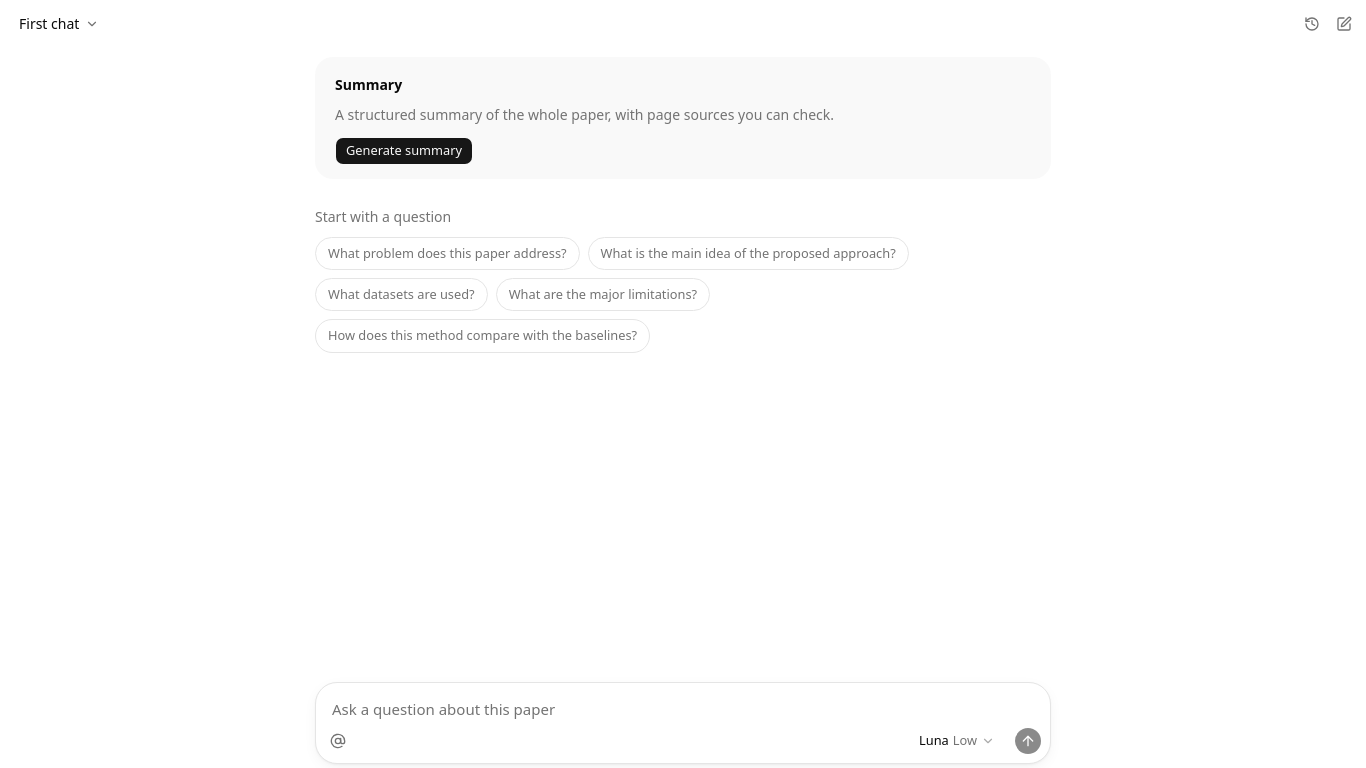
Scenario: Given the history, When a row is chosen, Then its chat opens and the popover closes
What coordinates should you click on to do the following:
click the button named "Chat history"
I would click on:
 (1312, 24)
Its box is [1298,10,1326,38].
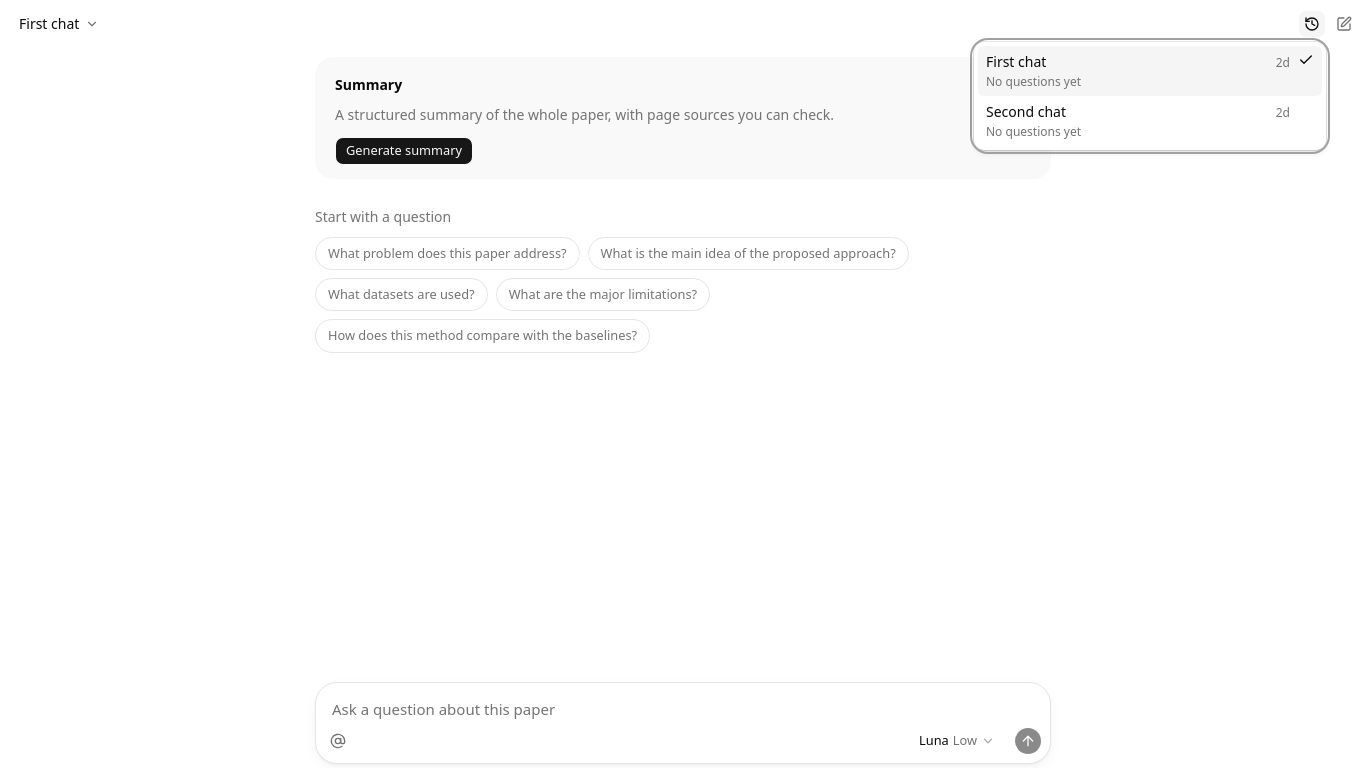
What coordinates should you click on to do the following:
click the option "Second chat 2d No questions yet"
I would click on:
 (1026, 112)
Its box is [978,96,1322,146].
(page scrolled)
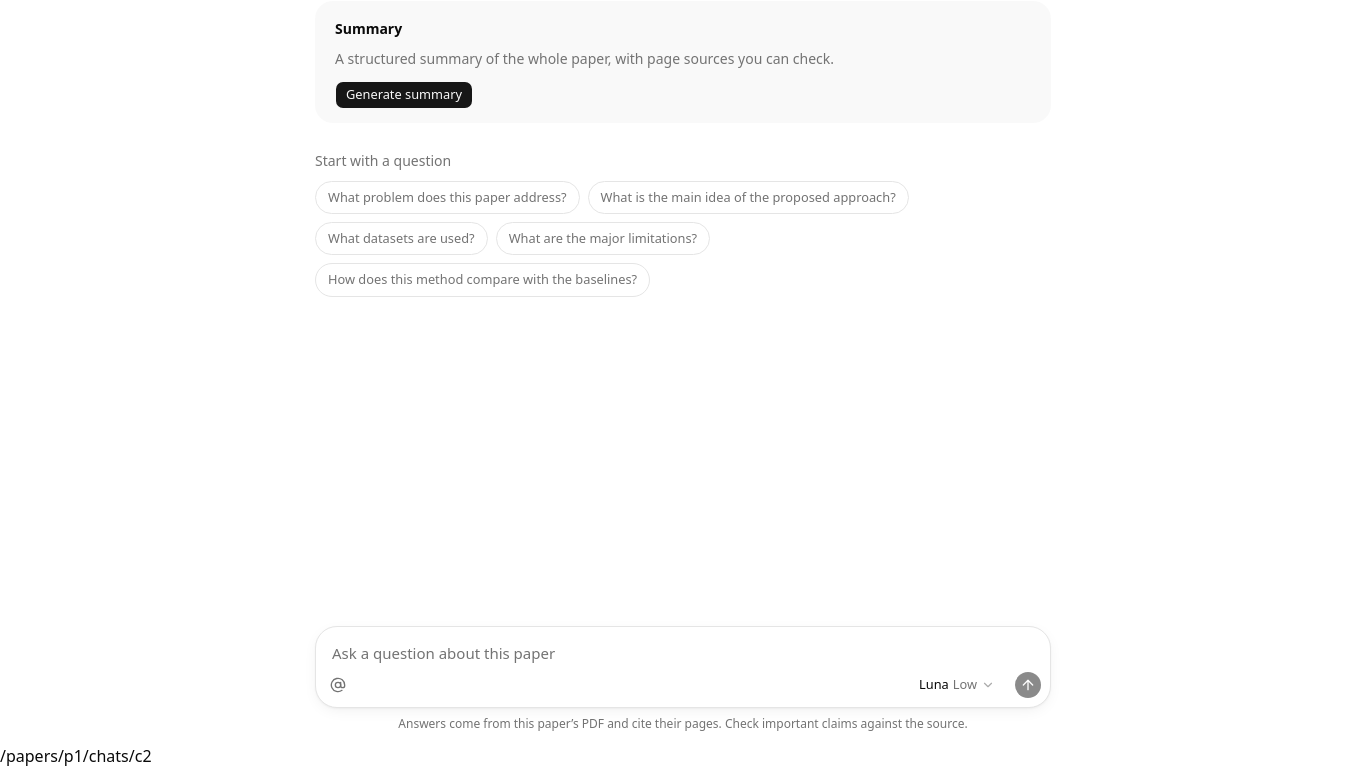
Expected: the text named "Current path" reads "/papers/p1/chats/c2", [0,745,152,767]
